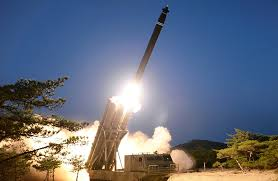ten_lua: (129, 3, 177, 91)
